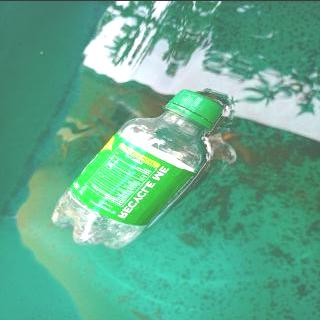bottle: (50, 89, 225, 248)
